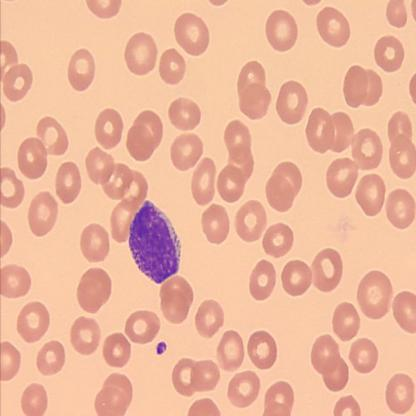Myelocyte: (128, 199, 182, 285)
